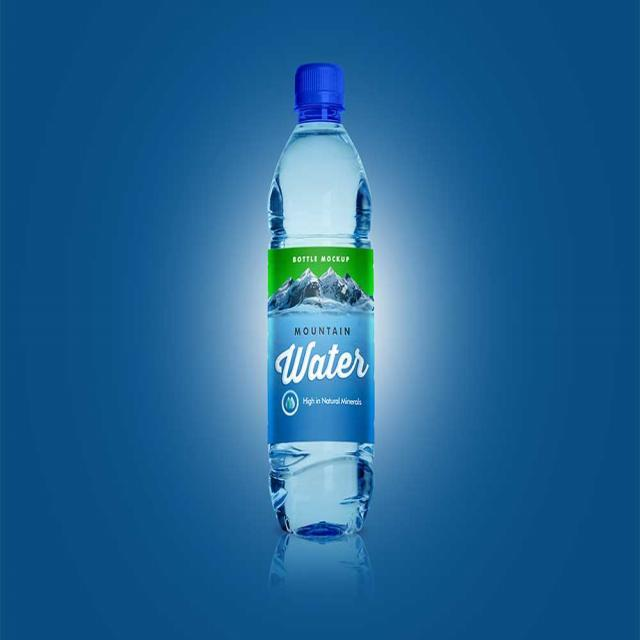plastic_bottle: (267, 61, 375, 538)
